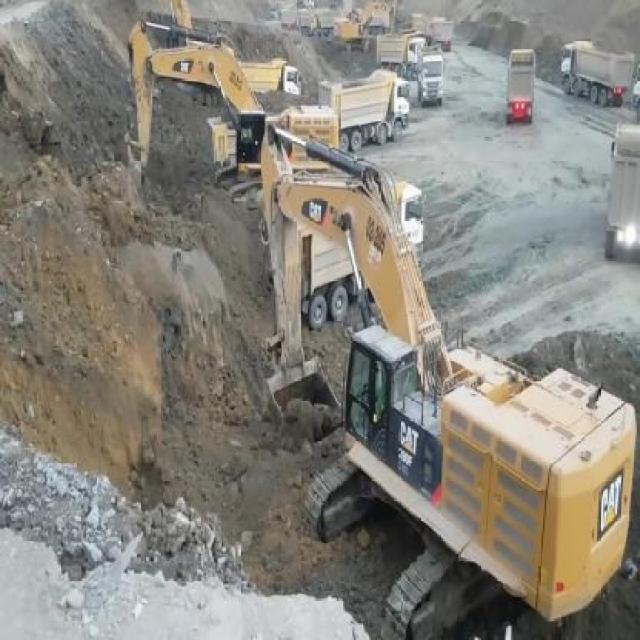Dump Truck: (317, 67, 411, 151), (559, 36, 633, 107), (504, 46, 538, 126), (415, 45, 443, 104)
Excavator: (260, 121, 637, 637), (123, 15, 339, 206)
